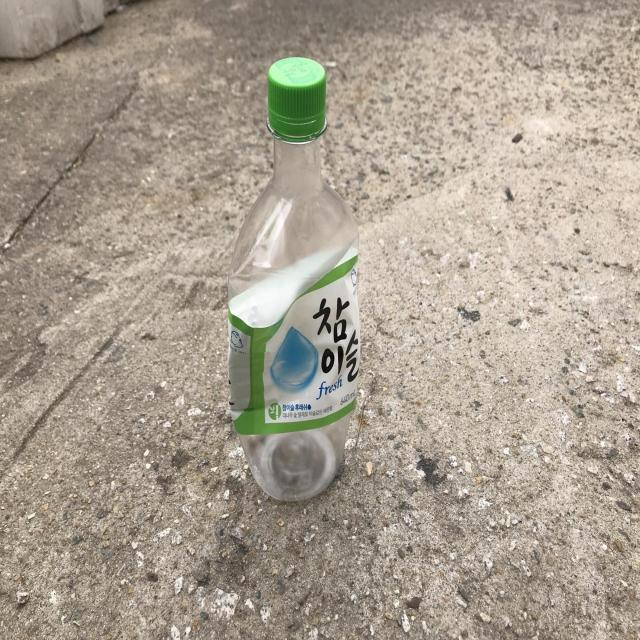plastic: (228, 56, 360, 502)
